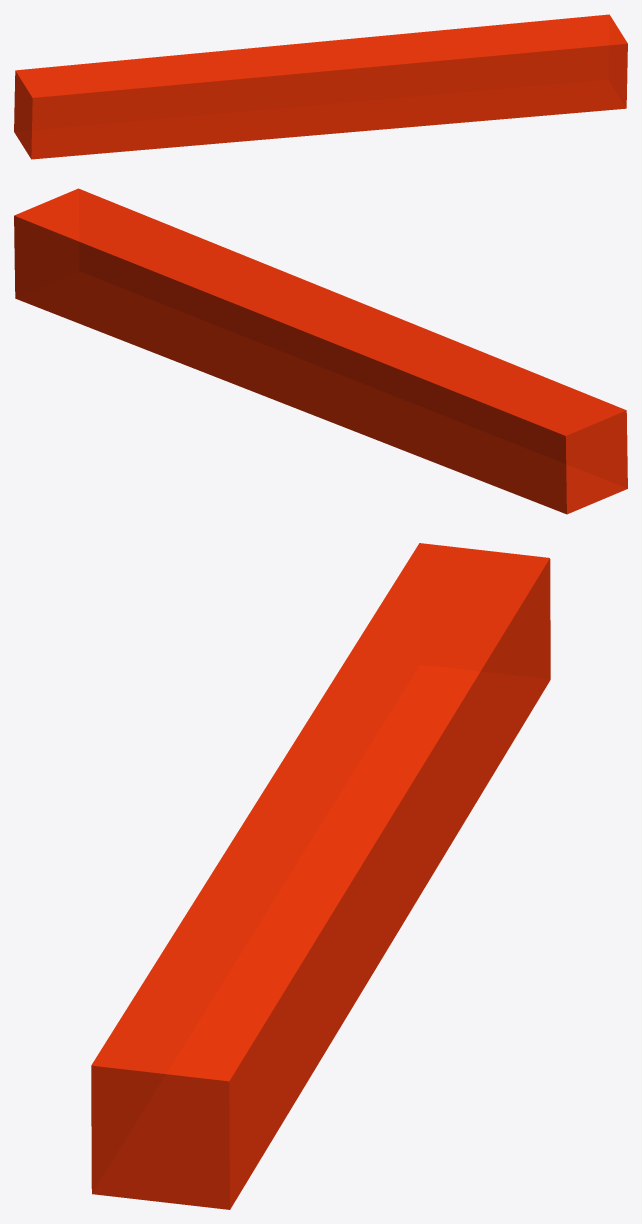
File: Event_421556567_EErechit_67.fbx
The picture shows the model from 3 angles, top to bottom: view 1: azimuth 30°, elevation 25°; view 2: azimuth 150°, elevation 25°; view 3: azimuth 270°, elevation 25°; orthographic projection. The views are drawn at different scales.
Visible parts, largest first — view 1: Model; view 2: Model; view 3: Model.
Part boxes in pixels (x1,y1,x2,y2): Model: [14, 14, 627, 159]; Model: [14, 188, 627, 514]; Model: [91, 543, 550, 1209].
Bounding box in the file's own units: 0.6565 × 0.0895 × 0.2463.
